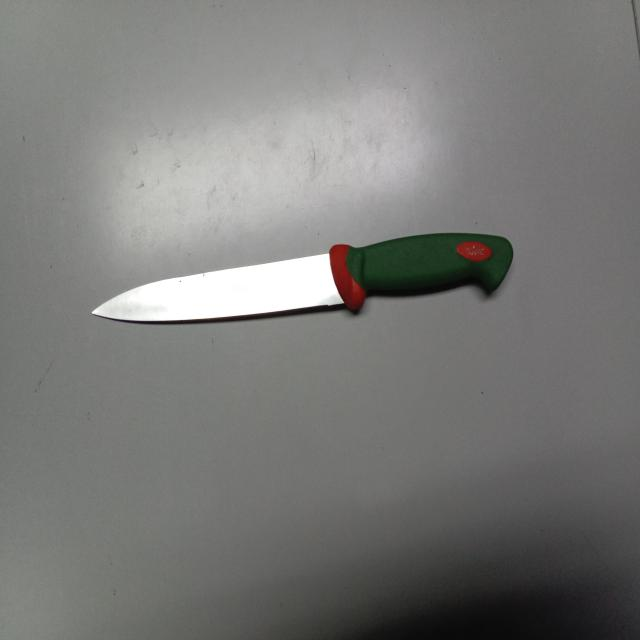Knife: (89, 233, 514, 322)
